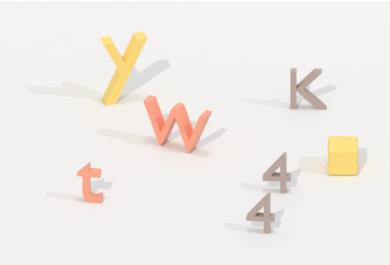0-KhoiVuong: (324, 131, 363, 181)
4: (259, 149, 295, 195), (242, 191, 277, 237)
K: (287, 65, 330, 115)
W: (139, 91, 215, 157)
t: (73, 159, 106, 207)
y: (95, 28, 145, 107)
